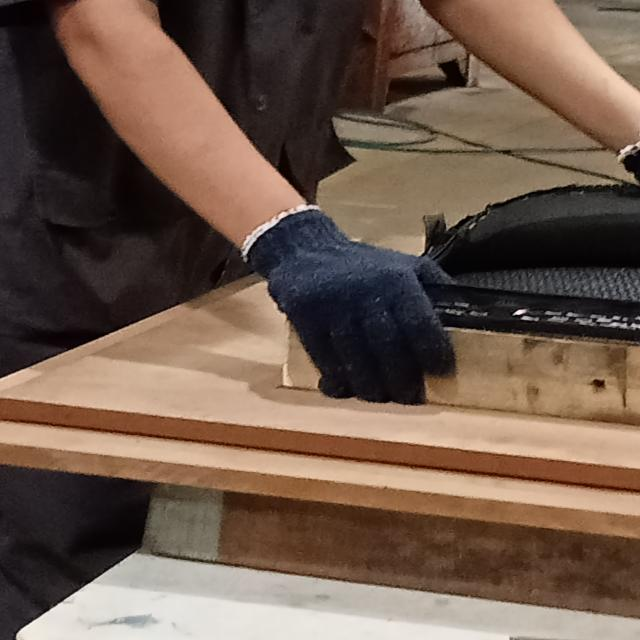Gloves-Detection: (250, 208, 450, 396)
